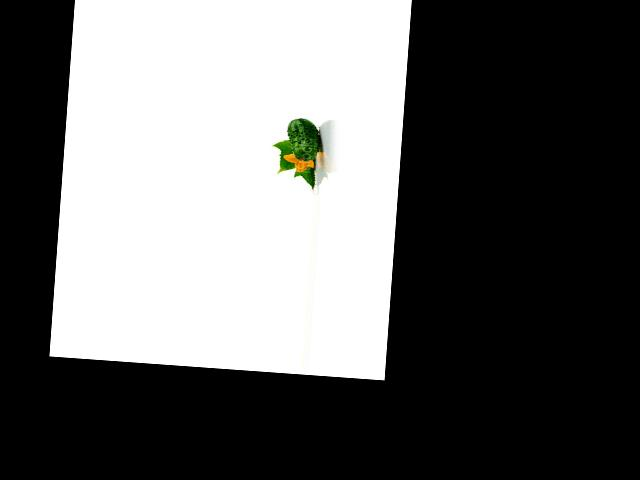cucumber: (285, 117, 321, 161)
